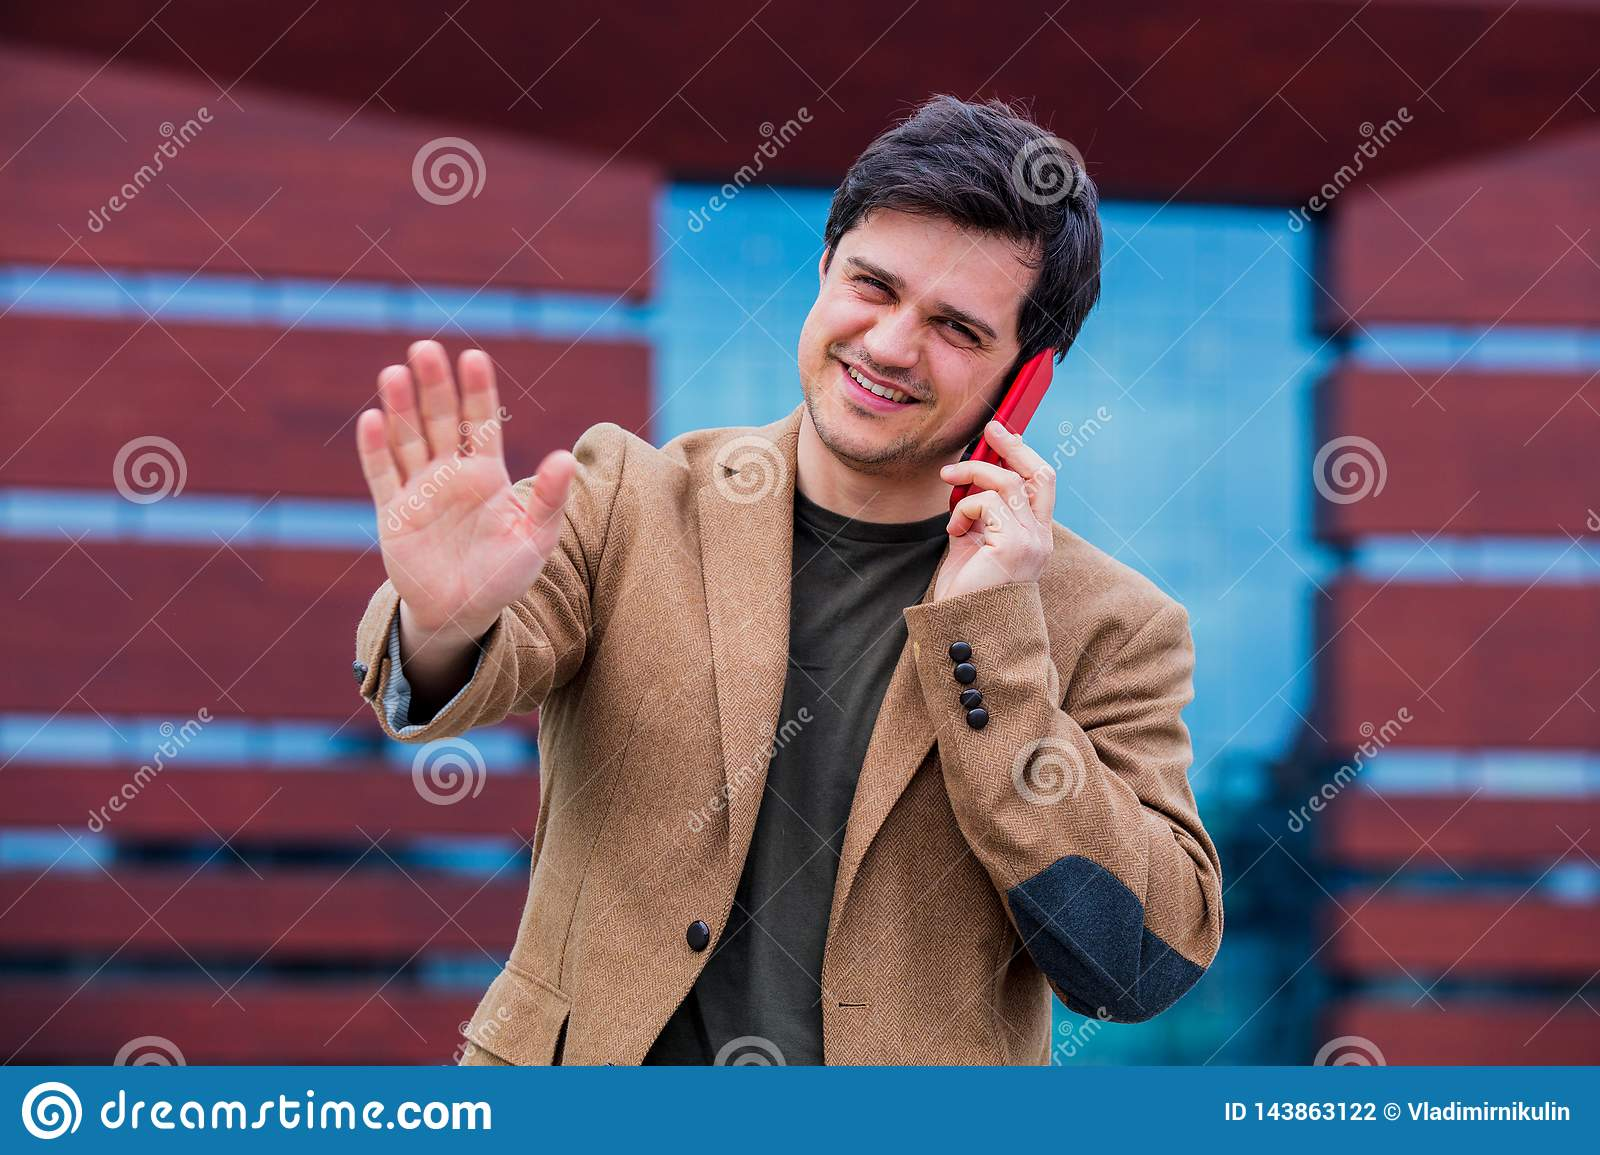phone: (947, 338, 1058, 535)
talk: (796, 248, 1058, 604)
